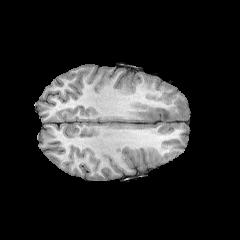glioma: (131, 98, 187, 119)
